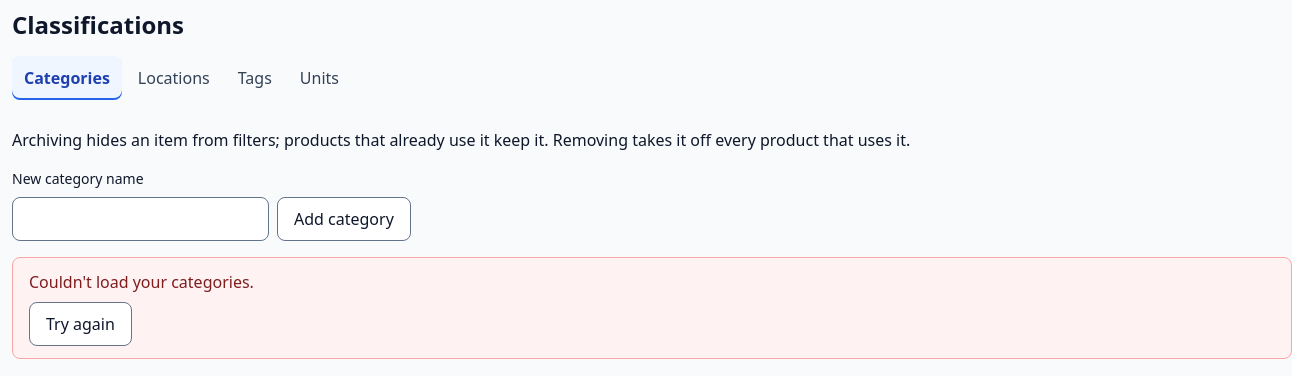
Test: ClassificationsPage › Categories › shows an error with a working retry
Click the button "Try again": (80, 324) [29,302,132,346]
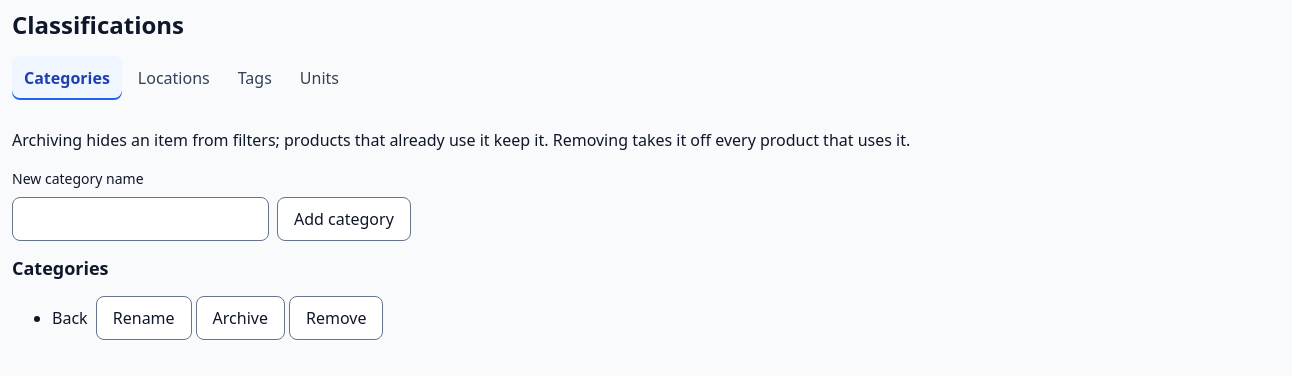
Expected: the text "Back" is shown, [52,307,88,329]
